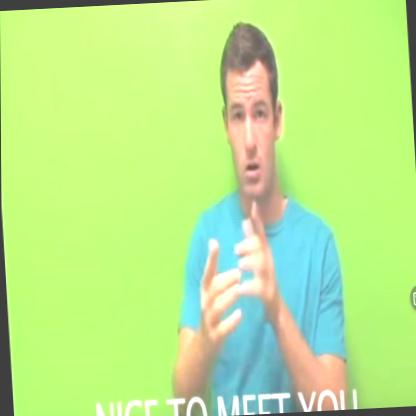NiceToMeetYou: (175, 192, 298, 358)
